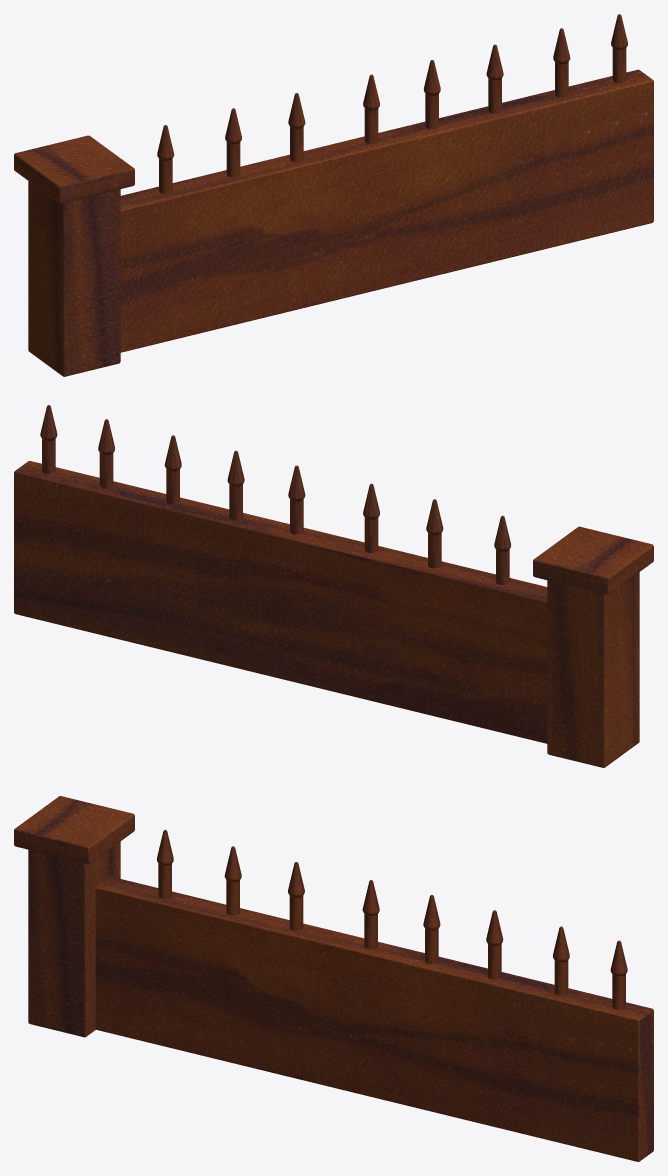
File: wall_block.fbx
3 views of the same model, one above another, from view 1: azimuth 30°, elevation 25°; view 2: azimuth 150°, elevation 25°; view 3: azimuth 330°, elevation 25° (orthographic).
Visible parts, largest first — view 1: group4_pCube3; view 2: group4_pCube3; view 3: group4_pCube3.
Boxes of the visible parts, x1=… form: group4_pCube3: x1=14, y1=14, x2=653, y2=376; group4_pCube3: x1=14, y1=405, x2=653, y2=767; group4_pCube3: x1=14, y1=796, x2=653, y2=1161.
Size of the model in its own units: 892 by 294 by 117.
Materials: 2 (1 with a texture image).
